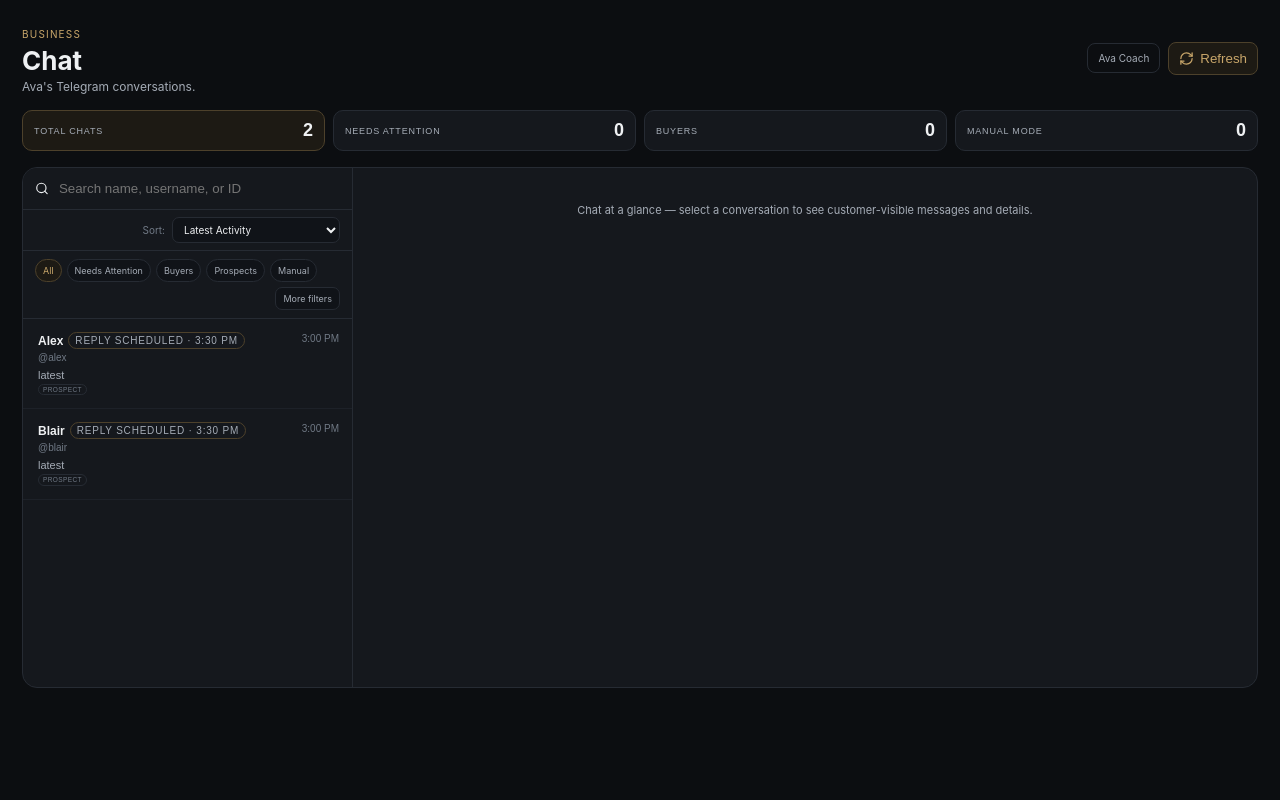
it: keeps intelligence out of the conversation flow while header controls and transcript remain available
The width and height of the screenshot is (1280, 800).
Click the button "Alex REPLY SCHEDULED · 3:30 PM @alex latest PROSPECT 3:00 PM" at point(157, 340), box [23, 319, 352, 410]
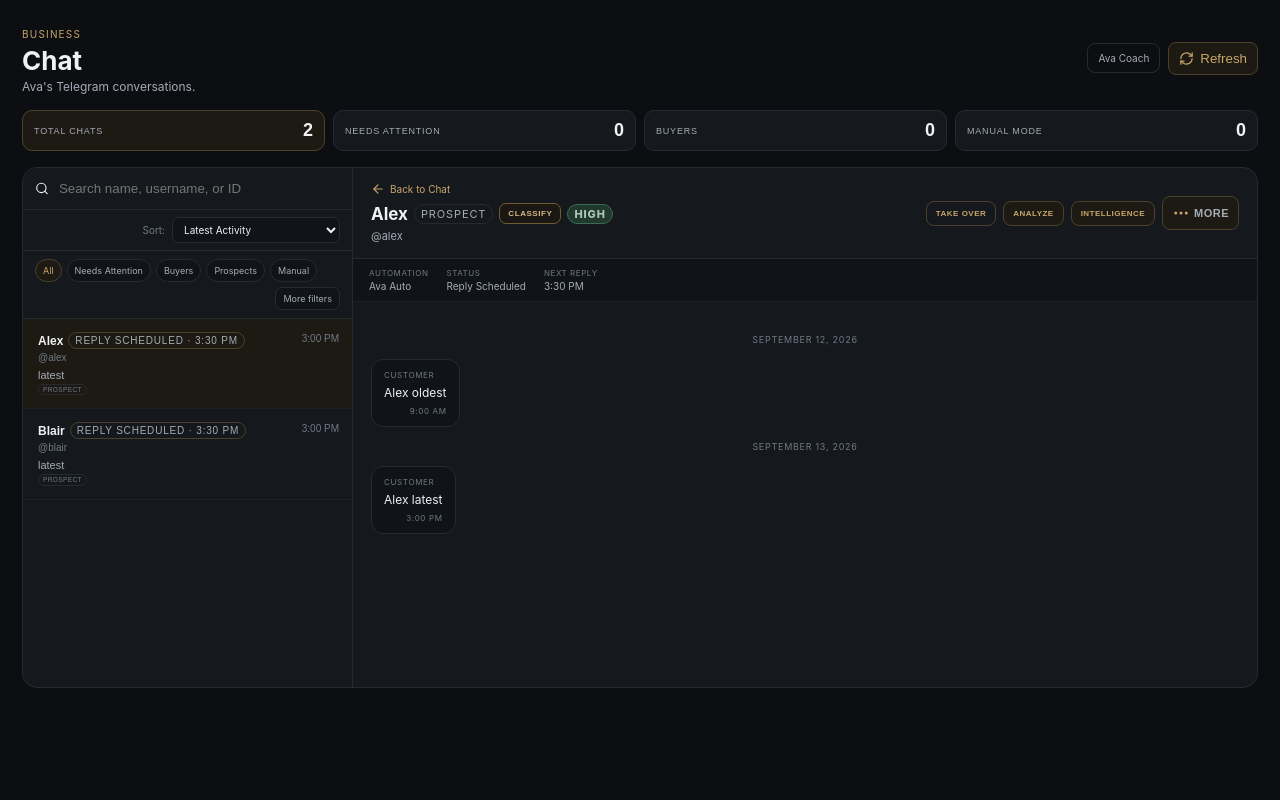
Expected: the text "Alex latest" is shown, [384, 491, 442, 509]
Expected: the button with aria-label "Open Customer Intelligence" is shown, [1071, 200, 1155, 226]
Expected: the text "Alex latest" shows "Alex oldest", [384, 385, 446, 400]
Click the button with aria-label "More conversation controls" at point(1201, 213), box [1162, 196, 1239, 230]
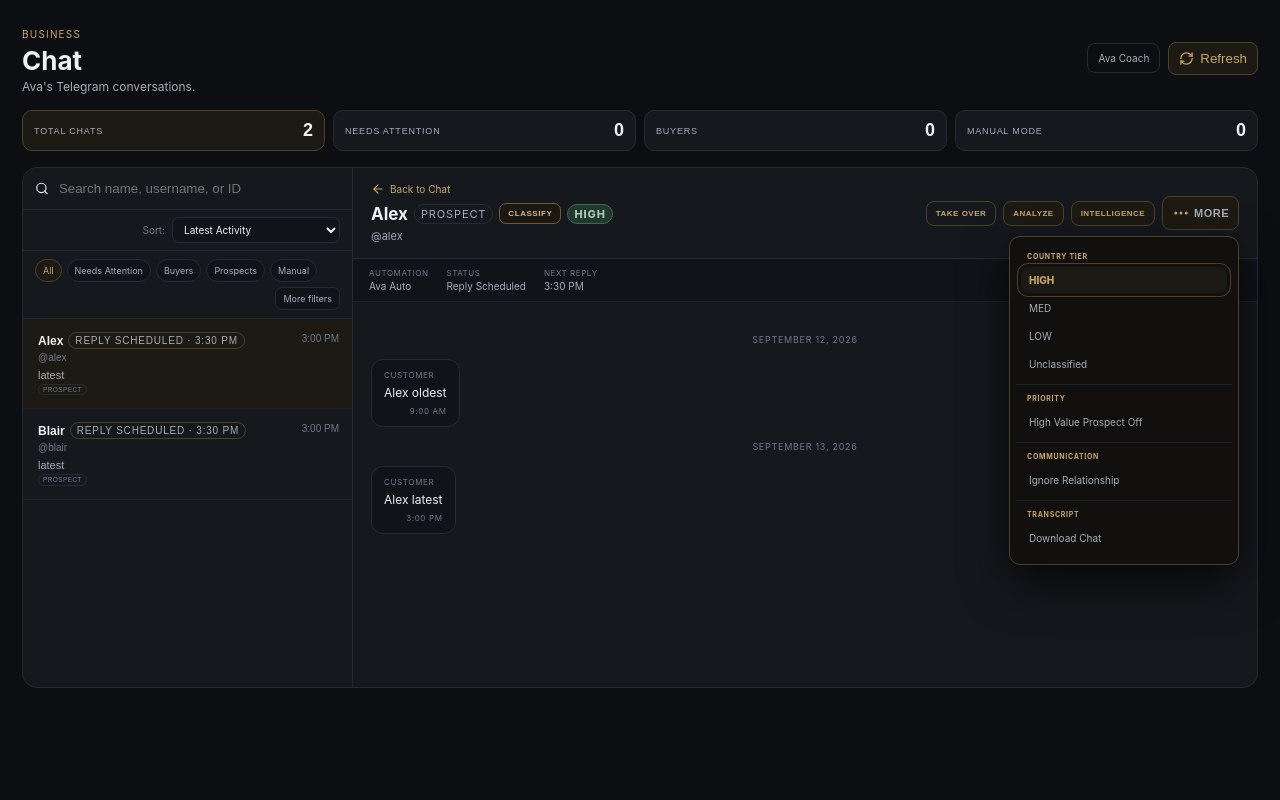
Expected: the menu item "High Value Prospect Off" is shown, [1021, 409, 1227, 435]
Expected: the menu item "HIGH" is shown, [1021, 267, 1227, 293]
